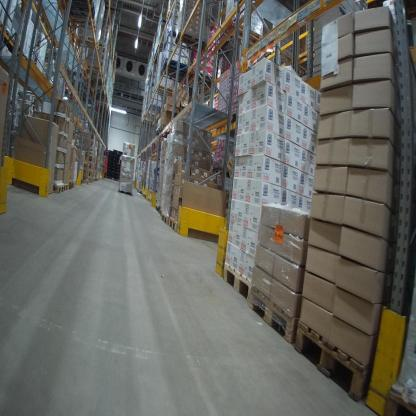pallet: (294, 319, 377, 402), (246, 279, 299, 349), (218, 16, 265, 50), (169, 216, 227, 243), (221, 258, 254, 304), (379, 382, 415, 414), (176, 29, 209, 56), (160, 64, 189, 86), (64, 1, 97, 20), (192, 67, 219, 87), (161, 55, 190, 73), (68, 16, 98, 33), (72, 33, 100, 50), (153, 80, 179, 98), (85, 66, 105, 76), (52, 180, 65, 193), (118, 188, 133, 196), (161, 212, 170, 225), (68, 180, 76, 191), (62, 182, 69, 193), (158, 208, 164, 217)
